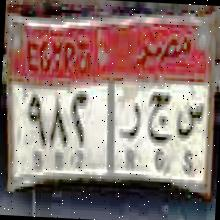2: (67, 84, 90, 146)
8: (47, 93, 70, 150)
9: (24, 91, 49, 150)
jeem: (144, 85, 174, 148)
raa: (116, 92, 142, 144)
seen: (172, 90, 203, 146)
